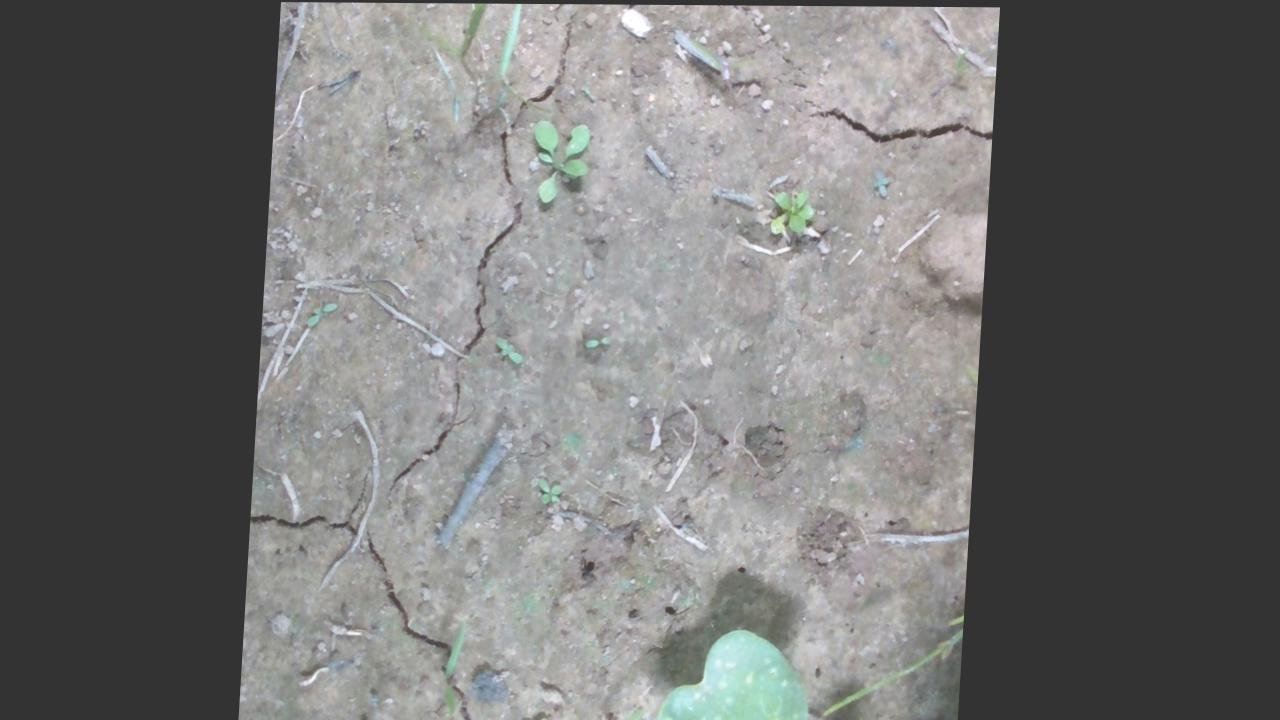weed: (496, 328, 534, 368), (523, 708, 565, 719)
